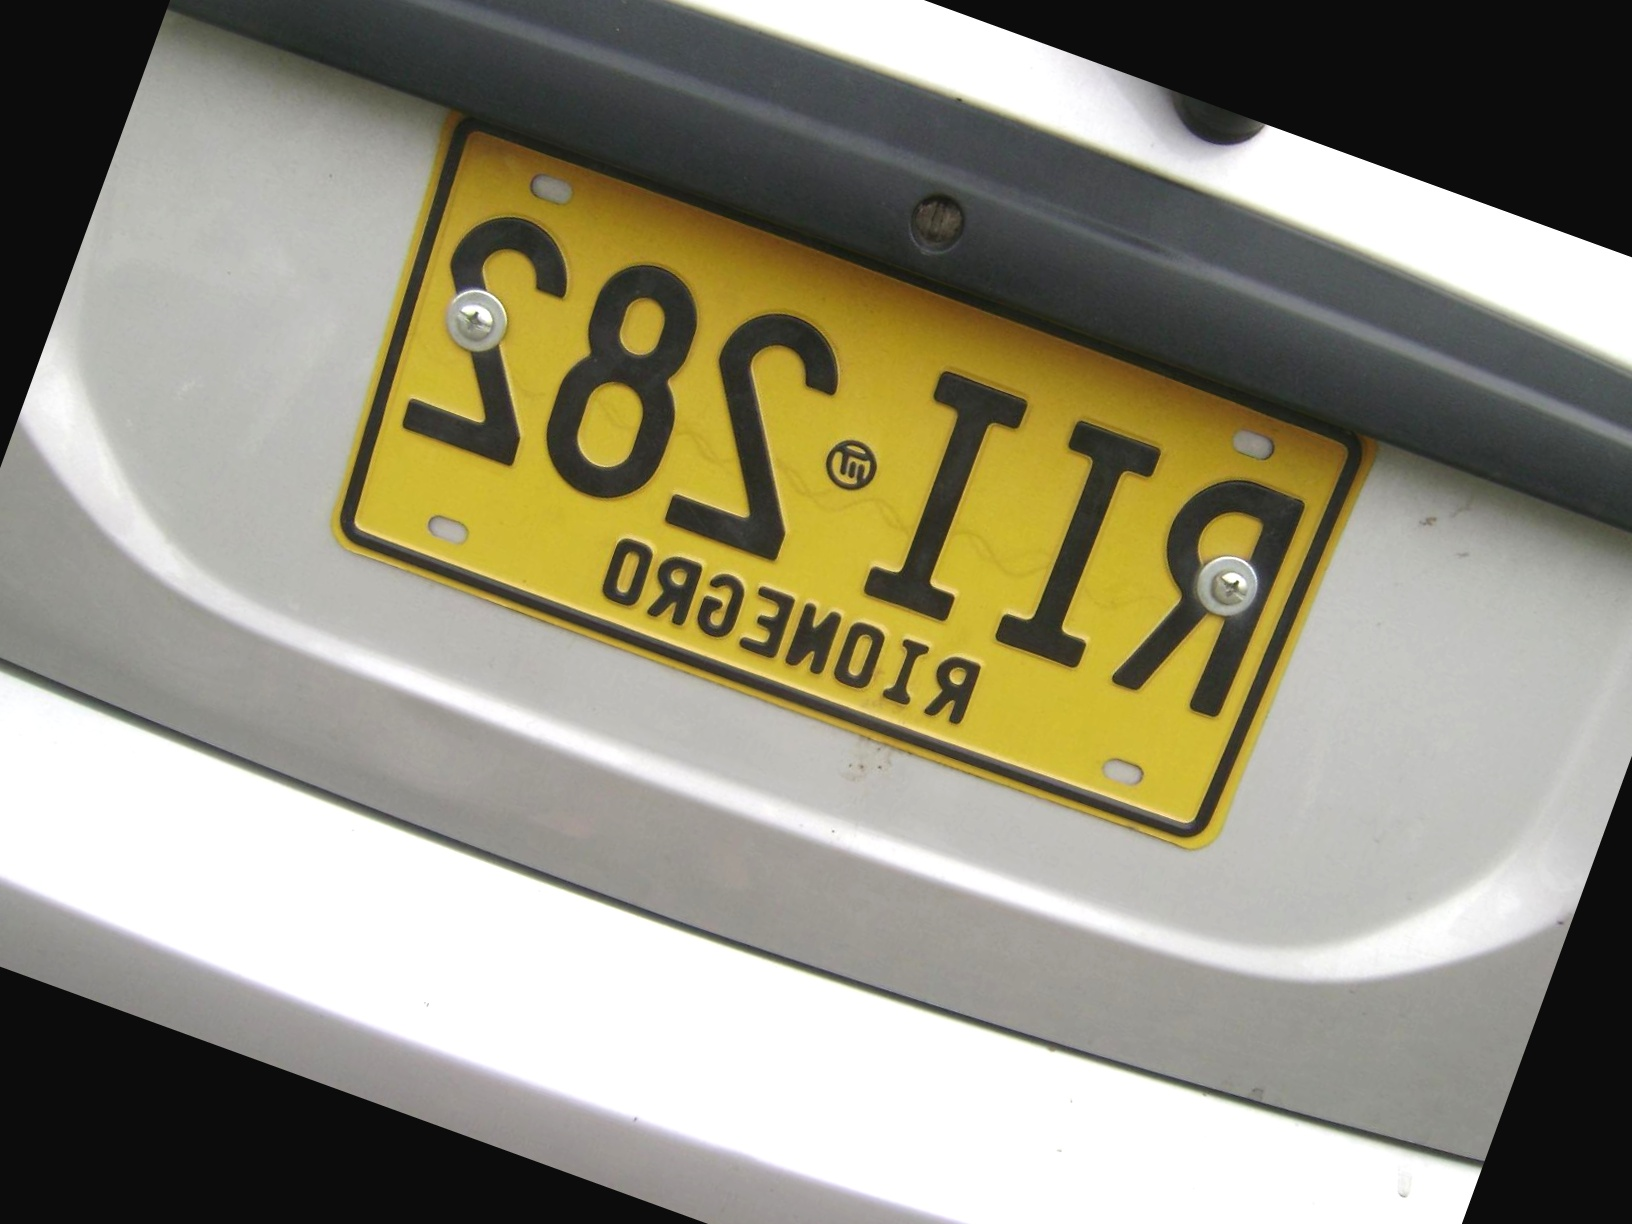placas: (285, 89, 1396, 883)
